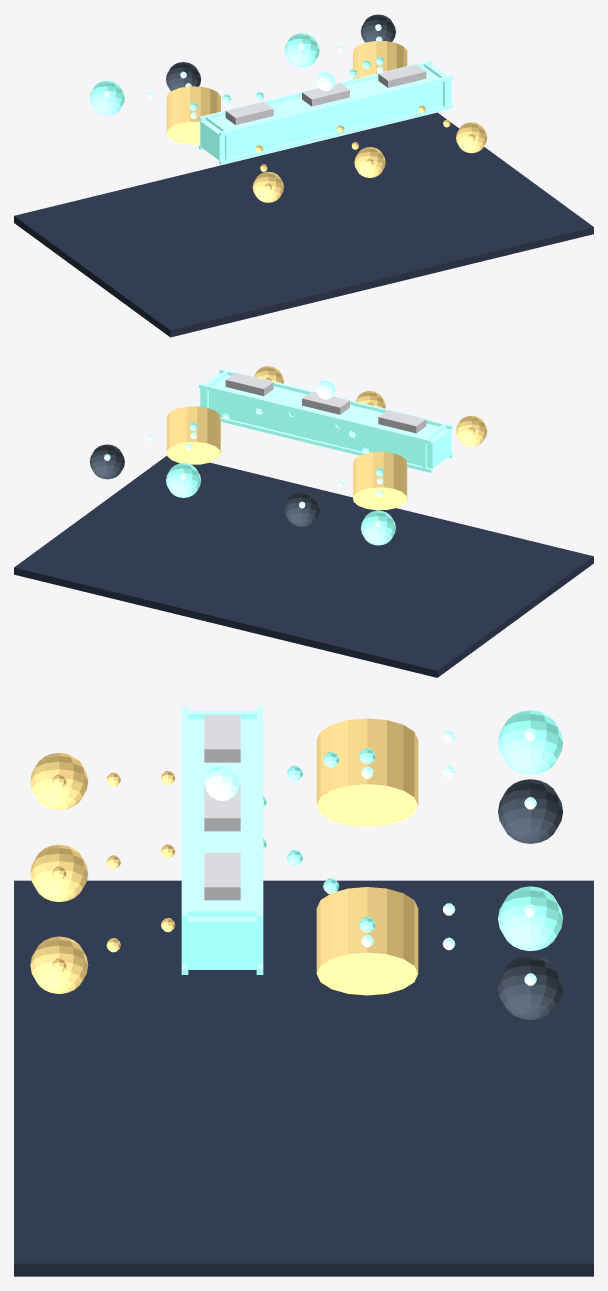
The model's file is ingress-gateway.glb.
The picture shows the model from 3 angles, top to bottom: view 1: azimuth 30°, elevation 25°; view 2: azimuth 150°, elevation 25°; view 3: azimuth 270°, elevation 25°; orthographic projection. The views are drawn at different scales.
Visible parts, largest first — view 1: ingress-floor, ingress-controller, service-0, service-1, endpoint-pod-0, endpoint-pod-2, endpoint-pod-3, rule-0, rule-2, client-2, endpoint-pod-1, client-0 (+2 smaller); view 2: ingress-floor, ingress-controller, service-1, service-0, endpoint-pod-0, endpoint-pod-3, endpoint-pod-2, endpoint-pod-1, rule-0, rule-2, client-0, rule-1; view 3: ingress-floor, ingress-controller, service-1, service-0, endpoint-pod-0, endpoint-pod-1, endpoint-pod-3, endpoint-pod-2, client-2, client-0, client-1, rule-2 (+3 smaller).
Part boxes in pixels (x1,y1,x2,y2): ingress-floor: (14, 112, 593, 337); ingress-controller: (199, 60, 452, 164); service-0: (166, 86, 220, 144); service-1: (353, 41, 407, 79); endpoint-pod-0: (89, 80, 124, 115); endpoint-pod-2: (284, 33, 319, 67); endpoint-pod-3: (361, 14, 395, 42); rule-0: (225, 101, 273, 124); rule-2: (378, 64, 426, 87); client-2: (456, 122, 487, 153); endpoint-pod-1: (166, 62, 200, 91); client-0: (252, 171, 283, 202); ingress-floor: (14, 456, 593, 677); ingress-controller: (199, 368, 452, 472); service-1: (166, 406, 220, 464); service-0: (353, 452, 407, 510); endpoint-pod-0: (361, 510, 395, 545); endpoint-pod-3: (89, 444, 124, 479); endpoint-pod-2: (166, 463, 200, 497); endpoint-pod-1: (284, 492, 319, 526); rule-0: (378, 410, 426, 433); rule-2: (225, 372, 273, 396); client-0: (456, 415, 487, 446); rule-1: (302, 391, 349, 414); ingress-floor: (14, 880, 593, 1276); ingress-controller: (181, 706, 263, 974); service-1: (316, 887, 418, 995); service-0: (316, 718, 418, 826); endpoint-pod-0: (498, 710, 562, 774); endpoint-pod-1: (498, 779, 562, 843); endpoint-pod-3: (498, 955, 562, 1019); endpoint-pod-2: (498, 886, 562, 950); client-2: (30, 936, 88, 993); client-0: (30, 752, 88, 810); client-1: (30, 844, 88, 901); rule-2: (204, 852, 240, 900).
Size of what is drawn, in the model's own units: 5 by 1.94 by 3.2.
